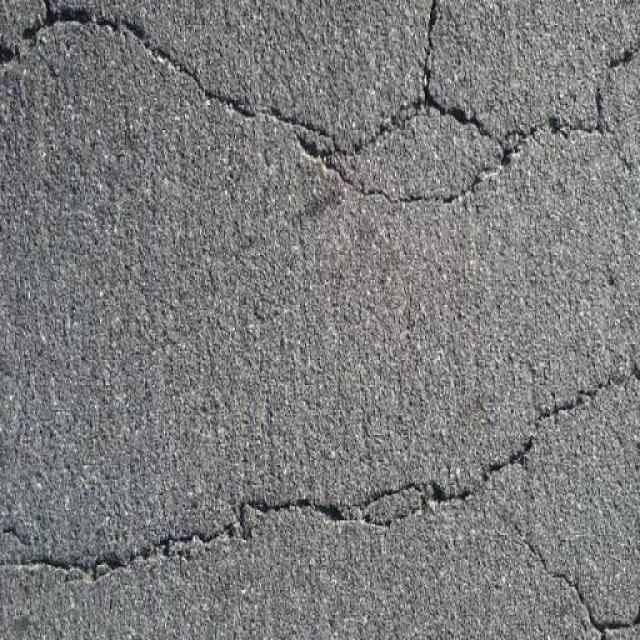Crack: (0, 352, 640, 640), (0, 0, 640, 221)
